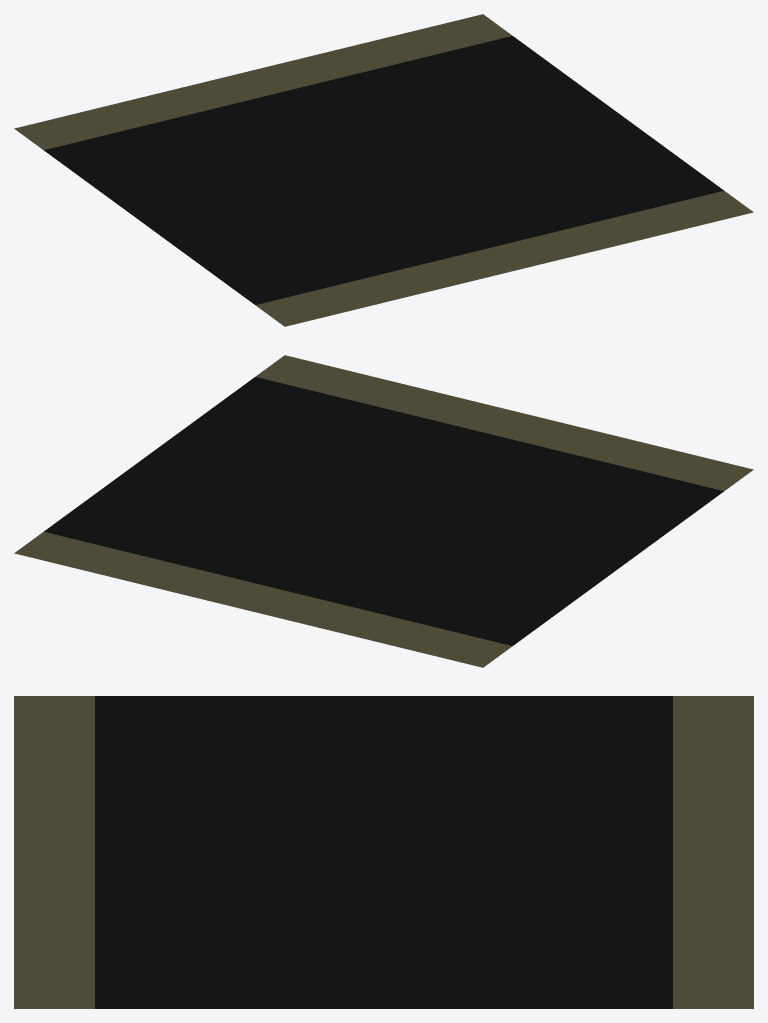
Rendered from road short.fbx.
The picture shows the model from 3 angles, top to bottom: view 1: azimuth 30°, elevation 25°; view 2: azimuth 150°, elevation 25°; view 3: azimuth 270°, elevation 25°; orthographic projection. The views are drawn at different scales.
Parts seen in each view (by area): view 1: Plane.005; view 2: Plane.005; view 3: Plane.005.
Boxes of the visible parts, bbox=[...] form: Plane.005: bbox=[14, 14, 753, 326]; Plane.005: bbox=[14, 355, 753, 667]; Plane.005: bbox=[14, 696, 753, 1008].
Bounding box in the file's own units: 400 × 6.52e-05 × 400.
